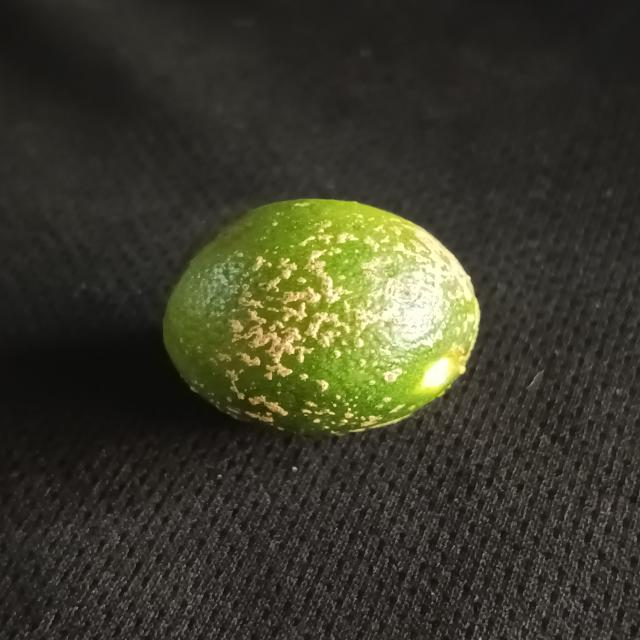scab: (150, 198, 488, 448)
